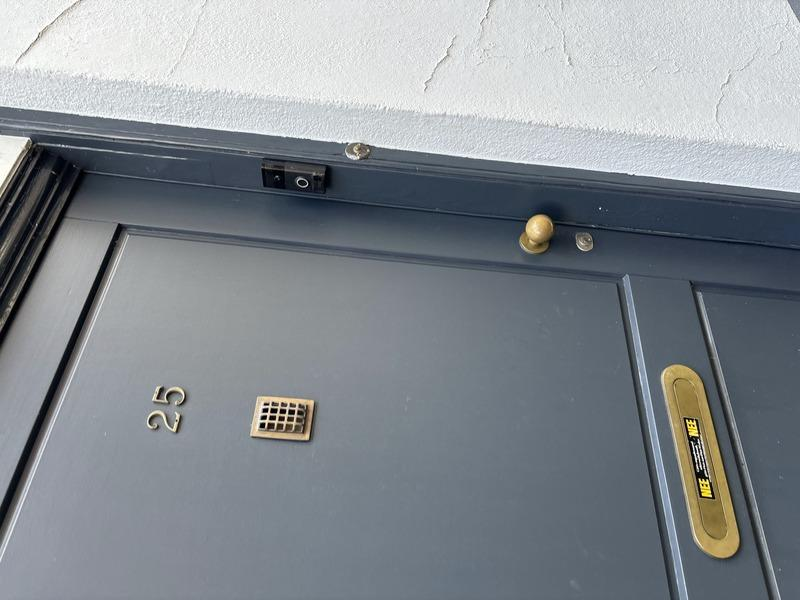doorbell: (404, 249, 448, 332)
